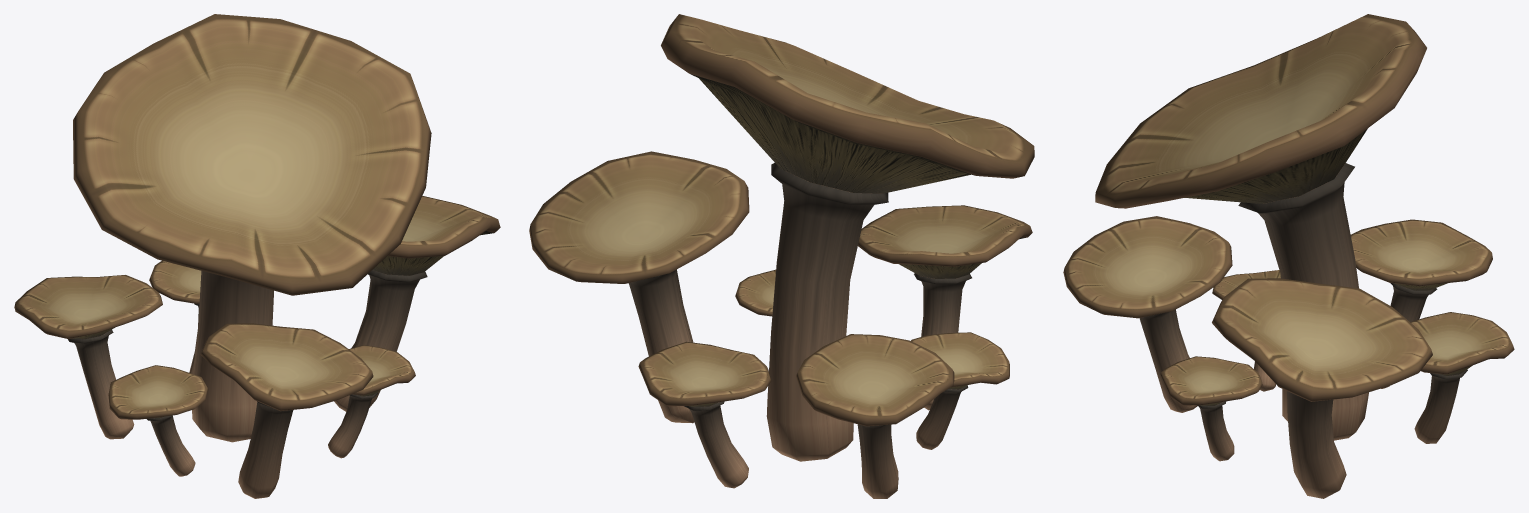
File: VEG0110013.fbx
The picture shows the model from 3 angles, left to right: view 1: azimuth 30°, elevation 25°; view 2: azimuth 150°, elevation 25°; view 3: azimuth 270°, elevation 25°; orthographic projection. The views are drawn at different scales.
Parts seen in each view (by area): view 1: smVEG0110013; view 2: smVEG0110013; view 3: smVEG0110013.
Part boxes in pixels (<box>): smVEG0110013: <box>14,14,500,498</box>; smVEG0110013: <box>529,14,1034,498</box>; smVEG0110013: <box>1063,14,1514,498</box>.
Size of the model in its own units: 42.04 by 37.49 by 38.27.
Materials: 1 (1 with a texture image).
